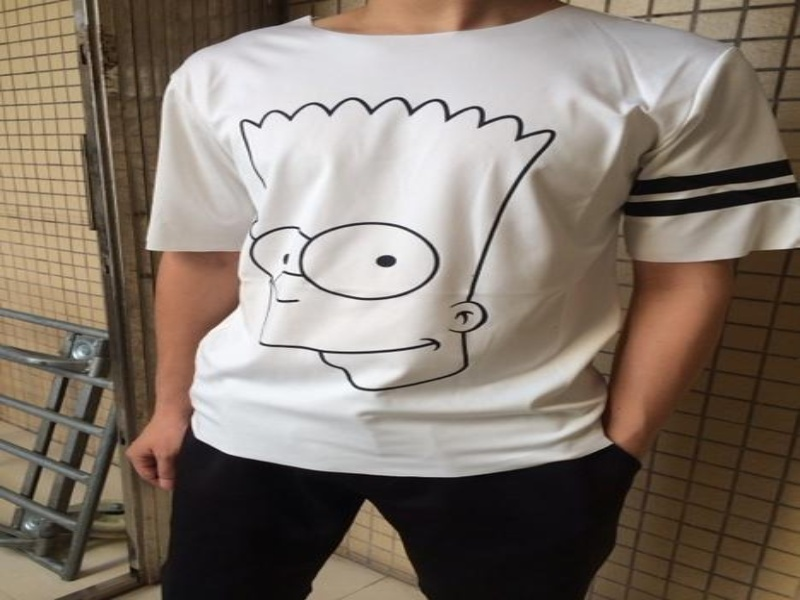short_sleeved_shirt: (144, 6, 798, 480)
trousers: (147, 391, 651, 599)
